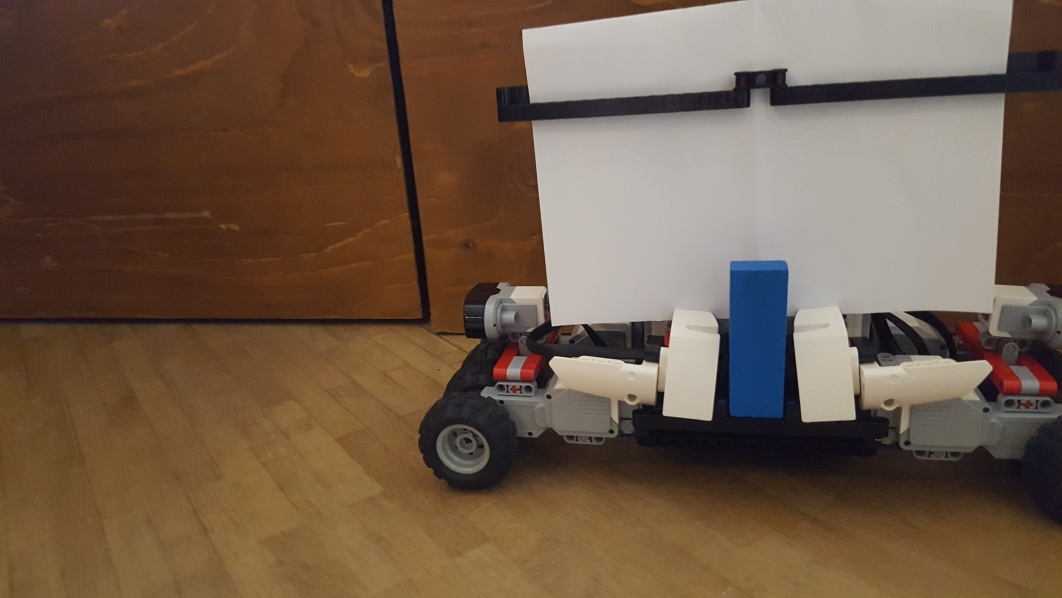beam: (727, 257, 790, 427)
